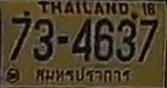3: (32, 18, 52, 60), (116, 18, 135, 60)
4: (71, 18, 91, 60)
6: (94, 18, 113, 60)
7: (10, 16, 30, 60), (138, 18, 157, 61)
SPK: (33, 65, 133, 84)
